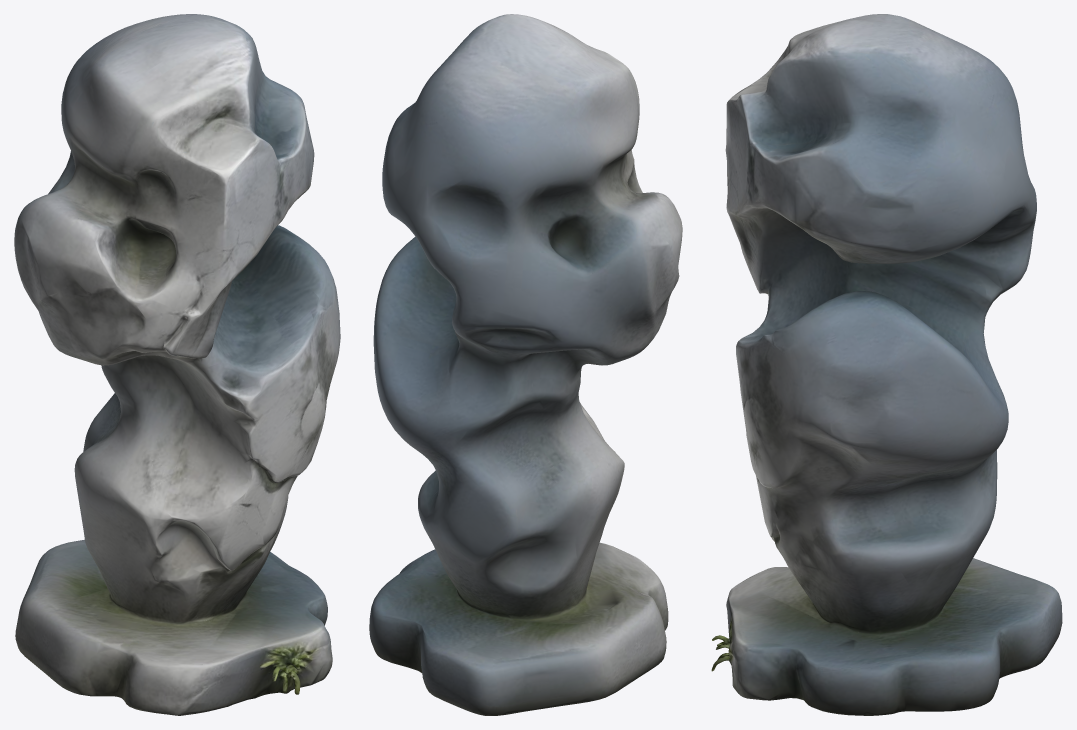
Rendered from stoneBankB.glb.
The picture shows the model from 3 angles, left to right: view 1: azimuth 30°, elevation 25°; view 2: azimuth 150°, elevation 25°; view 3: azimuth 270°, elevation 25°; orthographic projection. The views are drawn at different scales.
Visible parts, largest first — view 1: node_0; view 2: node_0; view 3: node_0.
Part boxes in pixels (left/top/right/bottom): node_0: left=14, top=14, right=340, bottom=715; node_0: left=369, top=14, right=682, bottom=715; node_0: left=711, top=14, right=1062, bottom=715.
Size of the model in its own units: 0.6479 by 1.35 by 0.6767.
1 material, 1 textured.
